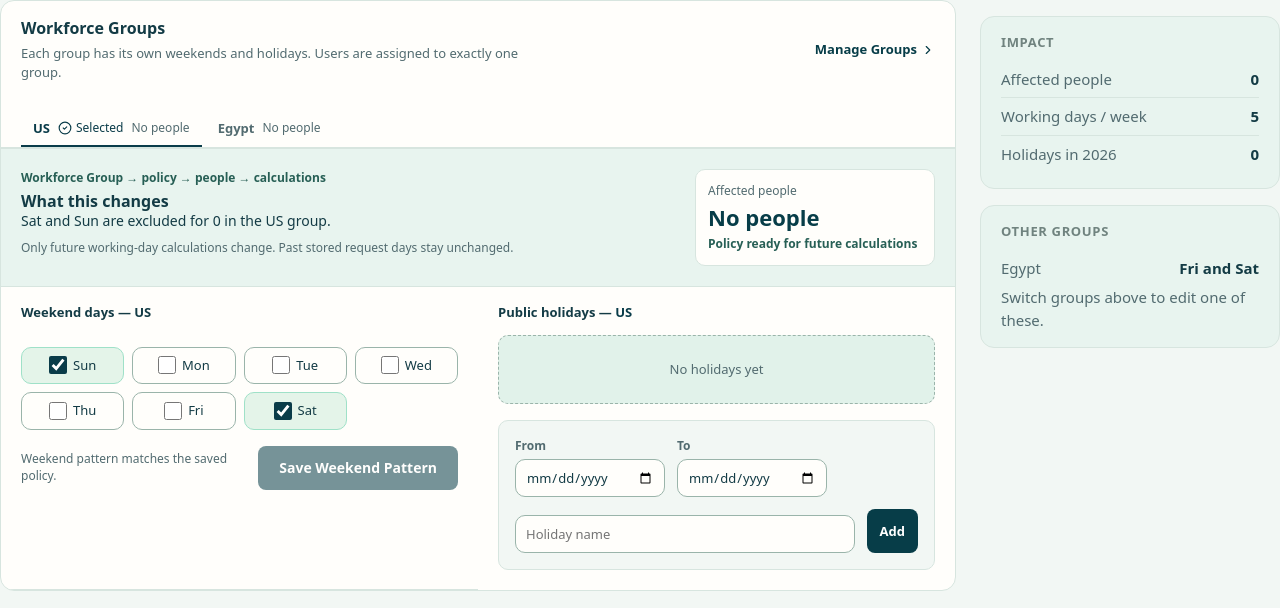
Test: WorkforceGroupsWeekendsCard › switches active group when a tab is clicked
Expected: the text "US" next to "Weekend days —" is shown, x1=134 y1=303 x2=151 y2=321
Click the tab "Egypt No people": (269, 128) x1=206 y1=110 x2=332 y2=146
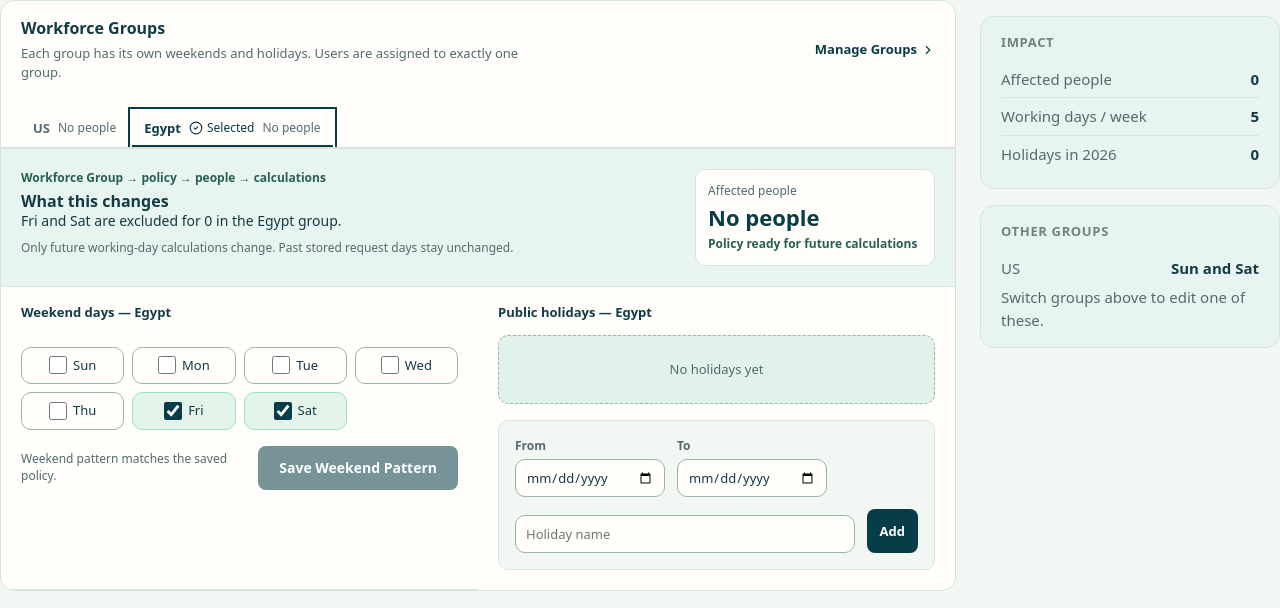
Result: the text "Egypt" next to "Weekend days —" is shown at x1=134 y1=303 x2=171 y2=321
